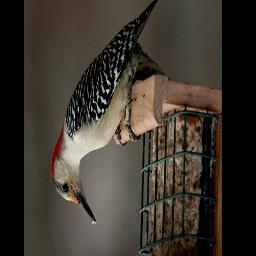Woodpecker: (50, 0, 166, 225)
